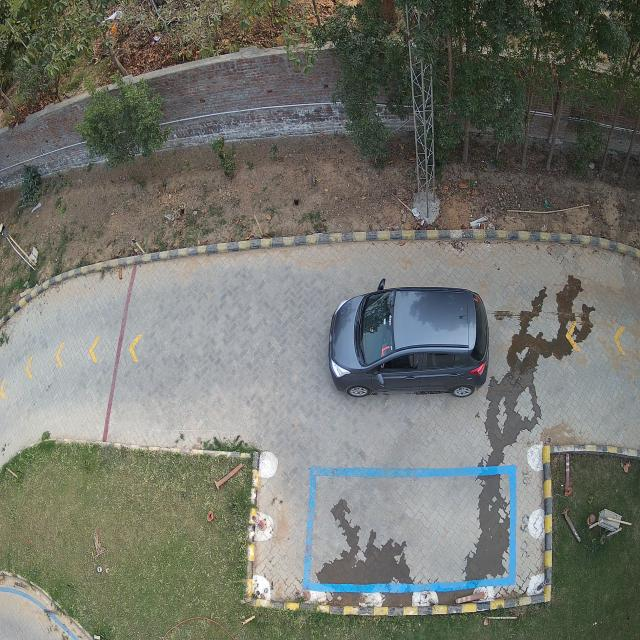car: (328, 280, 489, 397)
